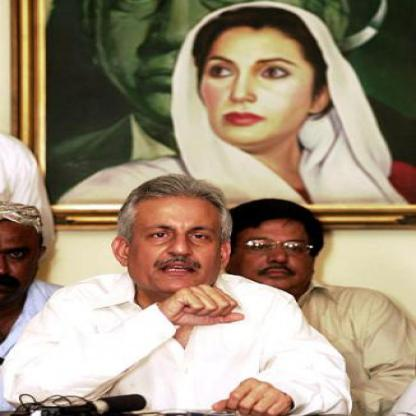face: (192, 7, 320, 148), (127, 181, 228, 298), (227, 204, 320, 294), (1, 199, 45, 308)
